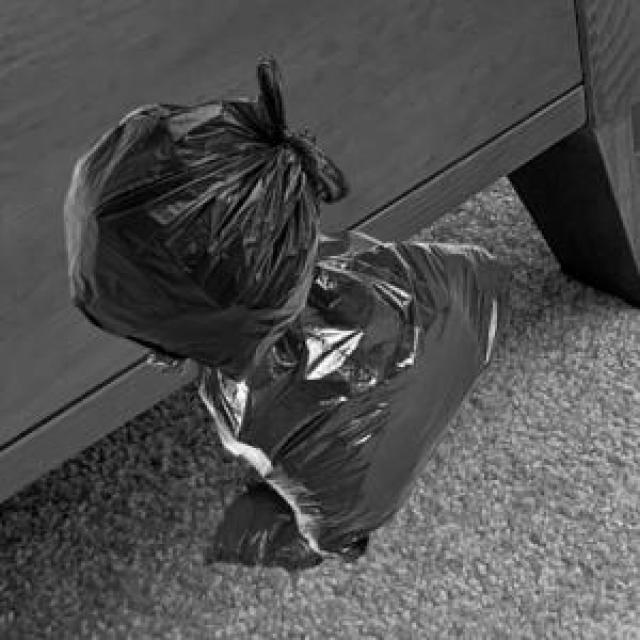miscellaneous trash: (143, 228, 510, 559), (60, 51, 346, 378), (198, 461, 322, 568)
